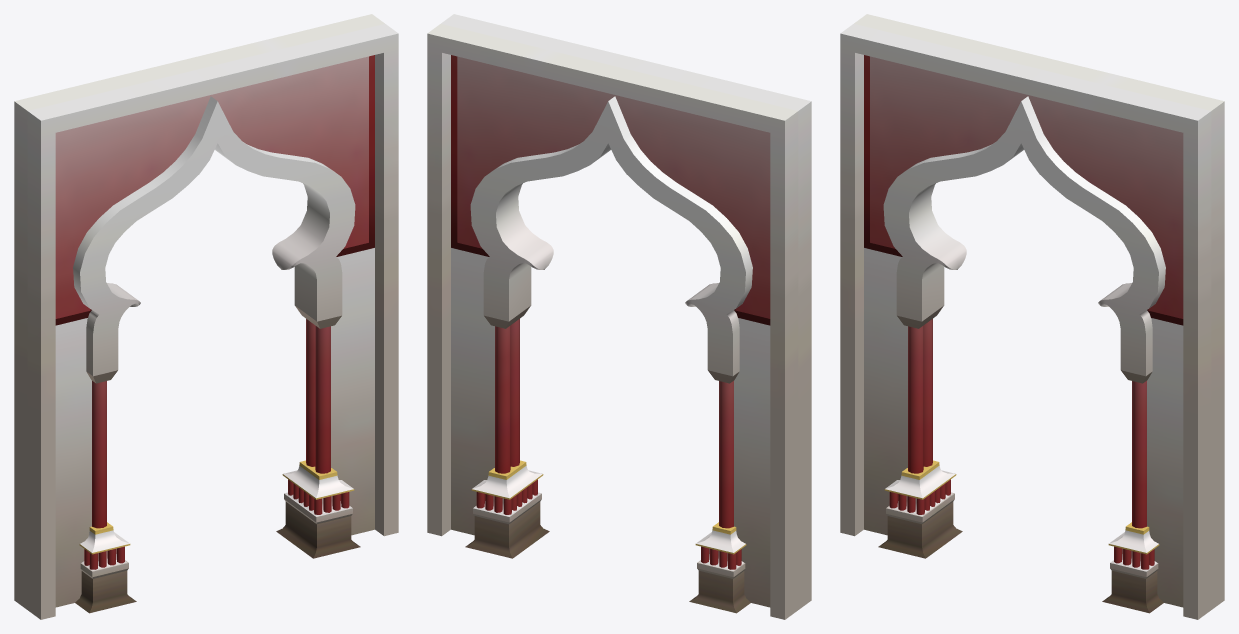
Rendered from M_Arch_06.fbx.
3 views of the same model, side by side, from view 1: azimuth 30°, elevation 25°; view 2: azimuth 150°, elevation 25°; view 3: azimuth 330°, elevation 25° (orthographic).
Visible parts, largest first — view 1: M_Arch_06; view 2: M_Arch_06; view 3: M_Arch_06.
Boxes of the visible parts, x1=… form: M_Arch_06: x1=14, y1=14, x2=398, y2=619; M_Arch_06: x1=427, y1=14, x2=811, y2=619; M_Arch_06: x1=840, y1=14, x2=1224, y2=619.
Size of the model in its own units: 431 by 575 by 77.87.
Materials: 1 (1 with a texture image).
